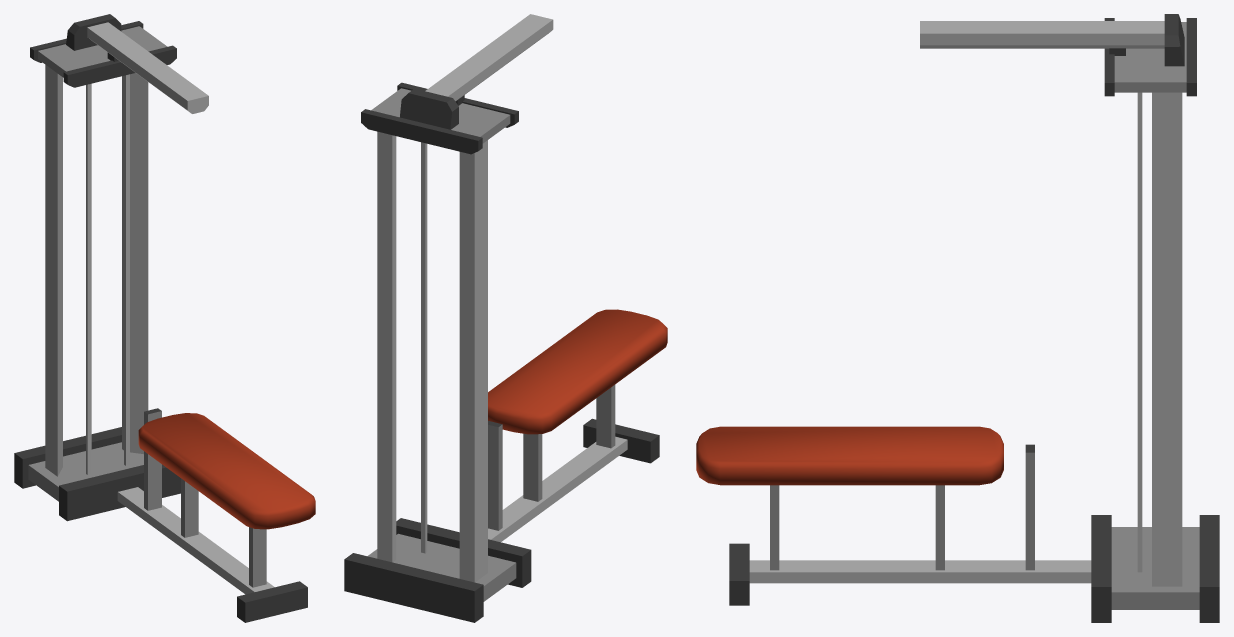
The model's file is emachine_1.glb.
The picture shows the model from 3 angles, left to right: view 1: azimuth 30°, elevation 25°; view 2: azimuth 150°, elevation 25°; view 3: azimuth 270°, elevation 25°; orthographic projection. The views are drawn at different scales.
Parts seen in each view (by area): view 1: E_Machine_1; view 2: E_Machine_1; view 3: E_Machine_1.
Boxes of the visible parts, bbox=[...] form: E_Machine_1: bbox=[14, 14, 315, 622]; E_Machine_1: bbox=[344, 14, 667, 622]; E_Machine_1: bbox=[696, 14, 1219, 622].
Size of the model in its own units: 0.594 by 2.16 by 1.82.
1 material, 1 textured.
